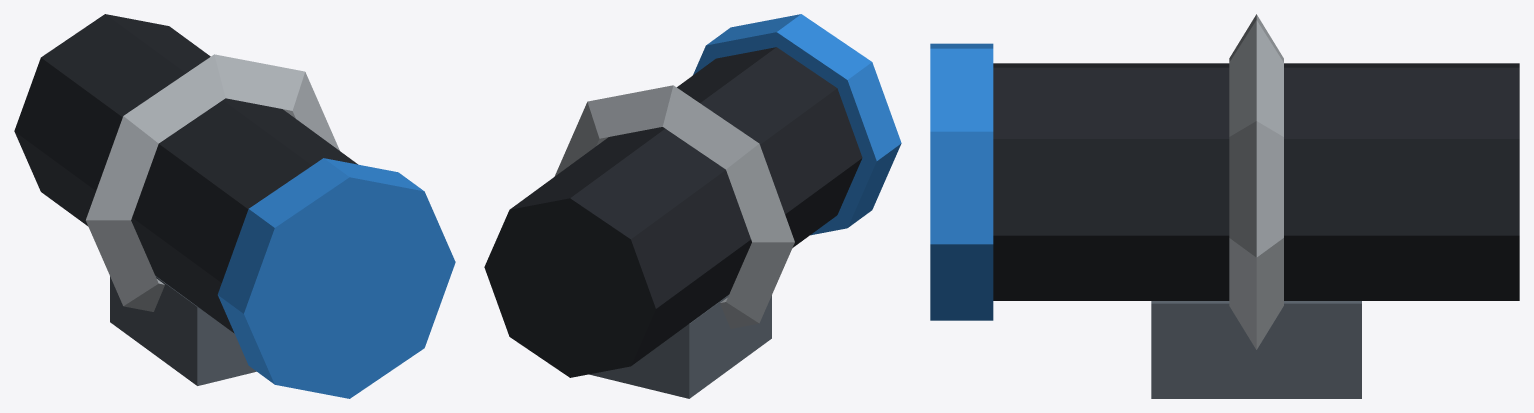
The model's file is collimator-electrifying.glb.
The picture shows the model from 3 angles, left to right: view 1: azimuth 30°, elevation 25°; view 2: azimuth 150°, elevation 25°; view 3: azimuth 270°, elevation 25°; orthographic projection. The views are drawn at different scales.
Parts seen in each view (by area): view 1: m; view 2: m; view 3: m.
Boxes of the visible parts, x1,y1,x2,y2 form: m: (14, 14, 455, 398); m: (484, 14, 901, 398); m: (930, 14, 1519, 398).
Bounding box in the file's own units: 0.0364 × 0.0386 × 0.06.
